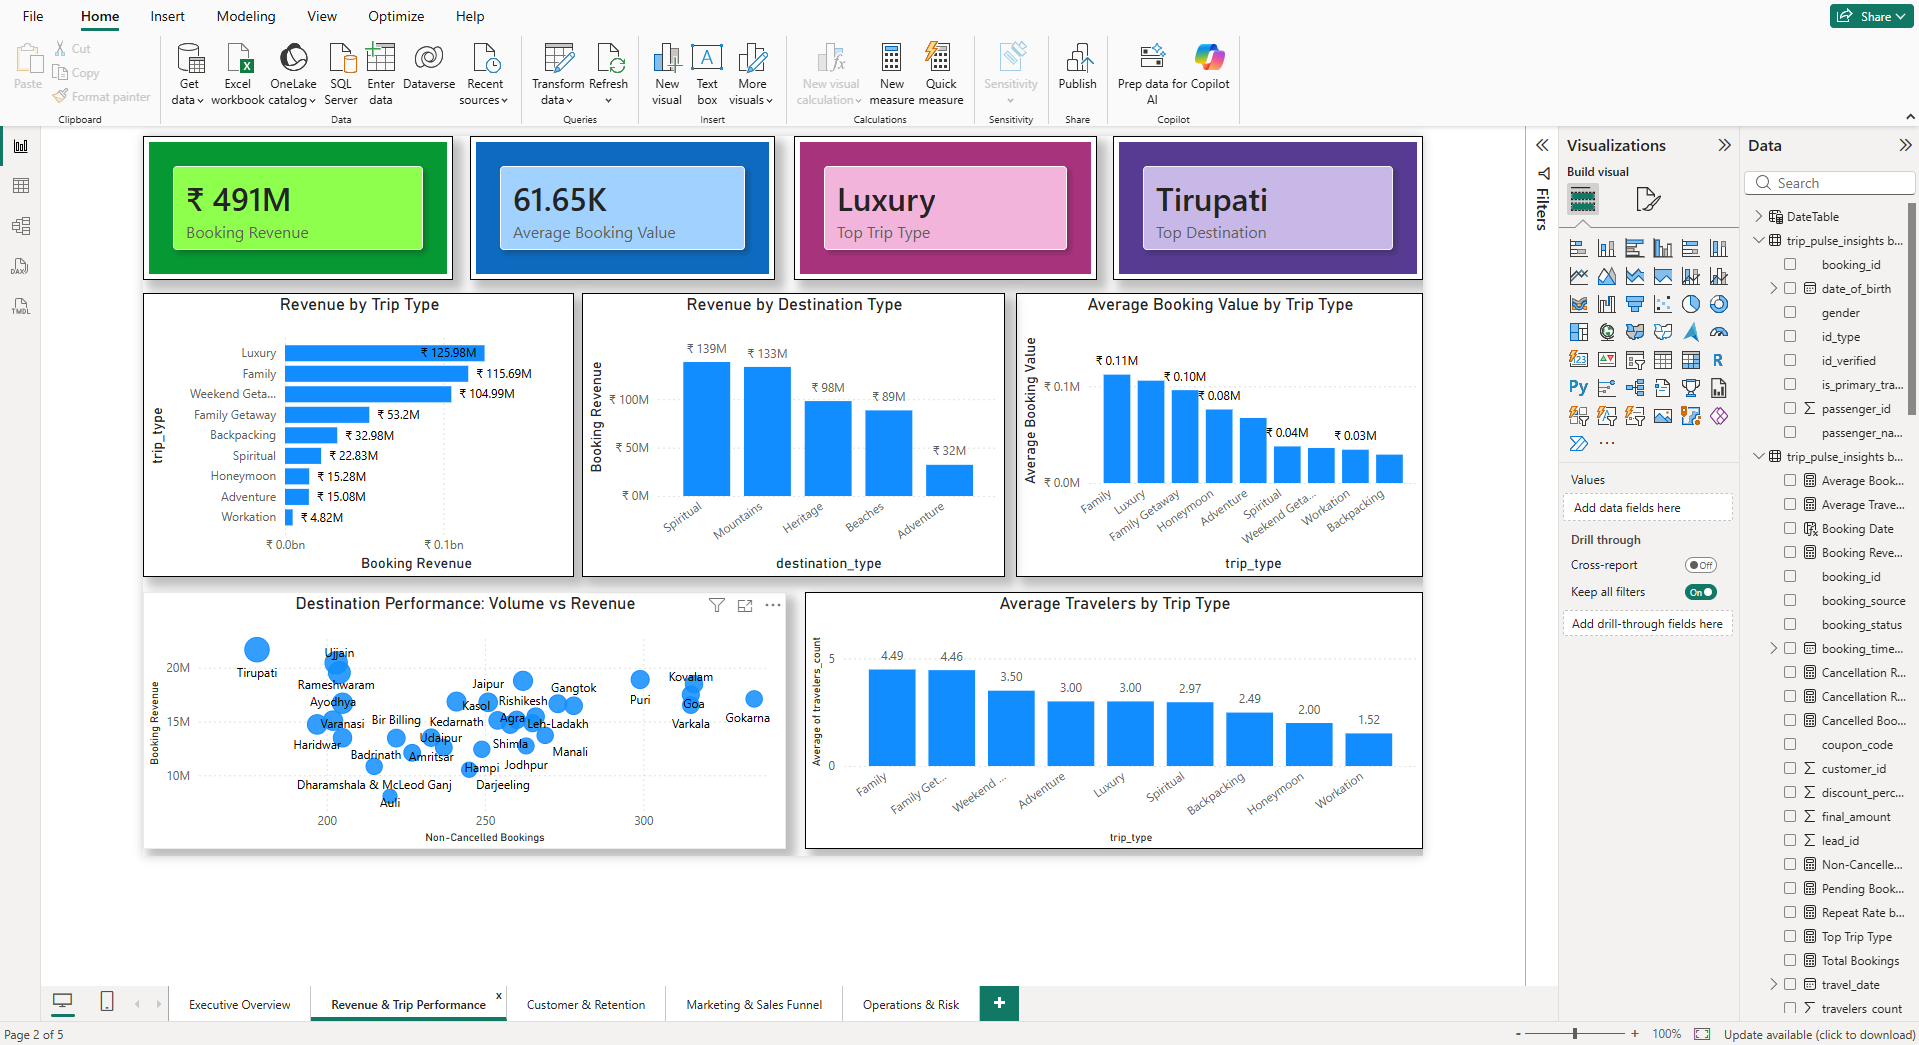

Layout of this report page (visuals, bound fields, positions):
{"tool":"powerbi","page":{"name":"Revenue & Trip Performance","canvas":[1280,720],"ordinal":1},"visuals":[{"type":"cardVisual","fields":{"Data":["trip_pulse_insights bookings.Booking Revenue"]},"box":[0,0,310,144],"z":0},{"type":"cardVisual","fields":{"Data":["trip_pulse_insights bookings.Average Booking Value"]},"box":[327,0,305,144],"z":1000},{"type":"cardVisual","fields":{"Data":["trip_pulse_insights bookings.Top Trip Type"]},"box":[651,0,303,144],"z":2000},{"type":"cardVisual","fields":{"Data":["trip_pulse_insights destinations.Top Destination"]},"box":[970,0,310,144],"z":3000},{"type":"clusteredBarChart","title":"Revenue by Trip Type","fields":{"Category":["trip_pulse_insights trips.trip_type"],"Y":["trip_pulse_insights bookings.Booking Revenue"]},"box":[0,157,431,284],"z":4000},{"type":"scatterChart","title":"Destination Performance: Volume vs Revenue","fields":{"X":["trip_pulse_insights bookings.Non-Cancelled Bookings"],"Y":["trip_pulse_insights bookings.Booking Revenue"],"Size":["trip_pulse_insights bookings.Average Booking Value"],"Category":["trip_pulse_insights destinations.destination_name"]},"box":[0,456,643,257],"z":5000},{"type":"clusteredColumnChart","title":"Average Booking Value by Trip Type","fields":{"Category":["trip_pulse_insights trips.trip_type"],"Y":["trip_pulse_insights bookings.Average Booking Value"]},"box":[873,157,407,284],"z":6000},{"type":"clusteredColumnChart","title":"Revenue by Destination Type","fields":{"Category":["trip_pulse_insights destinations.destination_type"],"Y":["trip_pulse_insights bookings.Booking Revenue"]},"box":[439,157,423,284],"z":7000},{"type":"clusteredColumnChart","title":"Average Travelers by Trip Type","fields":{"Y":["Avg(trip_pulse_insights bookings.travelers_count)"],"Category":["trip_pulse_insights trips.trip_type"]},"box":[662,456,618,257],"z":8000}]}

Visuals, with their boxes on the page's 1280x720 design canvas (x1, y1, x2, y2). These are canvas units, not pixel positions in the 1919x1045 screenshot, which may show the page scaled, cropped or inside an application window:
cardVisual - trip_pulse_insights bookings.Booking Revenue: <bbox>0, 0, 310, 144</bbox>
cardVisual - trip_pulse_insights bookings.Average Booking Value: <bbox>327, 0, 632, 144</bbox>
cardVisual - trip_pulse_insights bookings.Top Trip Type: <bbox>651, 0, 954, 144</bbox>
cardVisual - trip_pulse_insights destinations.Top Destination: <bbox>970, 0, 1280, 144</bbox>
"Revenue by Trip Type" clusteredBarChart: <bbox>0, 157, 431, 441</bbox>
"Destination Performance: Volume vs Revenue" scatterChart: <bbox>0, 456, 643, 713</bbox>
"Average Booking Value by Trip Type" clusteredColumnChart: <bbox>873, 157, 1280, 441</bbox>
"Revenue by Destination Type" clusteredColumnChart: <bbox>439, 157, 862, 441</bbox>
"Average Travelers by Trip Type" clusteredColumnChart: <bbox>662, 456, 1280, 713</bbox>
